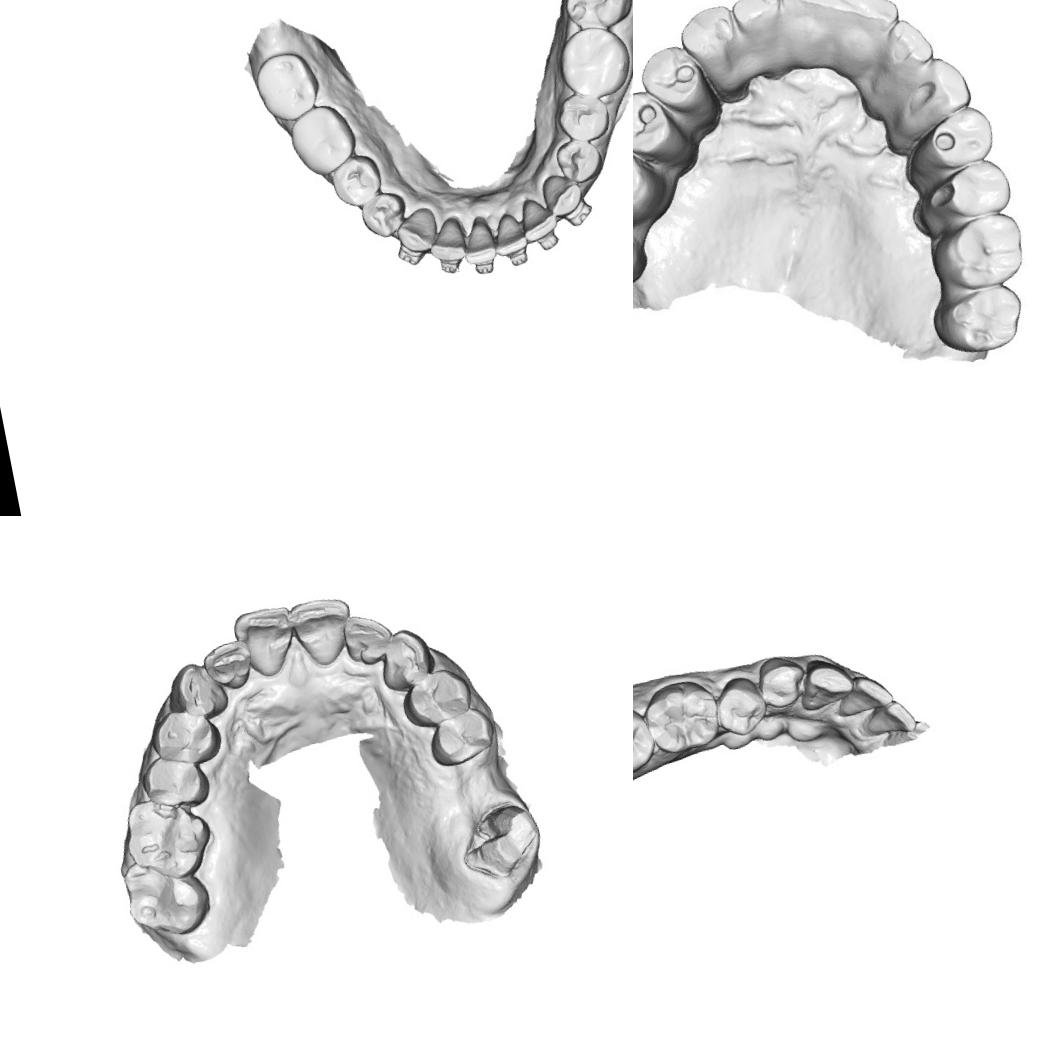canine: (880, 51, 975, 144), (674, 0, 752, 97), (161, 654, 230, 722), (373, 623, 436, 694), (791, 653, 858, 715), (390, 204, 442, 258), (537, 168, 587, 221)
crown: (455, 796, 546, 886)
incisor: (777, 0, 857, 81), (829, 0, 908, 78), (228, 600, 302, 682), (286, 592, 360, 670), (732, 0, 797, 81), (871, 12, 936, 84), (336, 607, 395, 670), (200, 634, 256, 695), (832, 667, 897, 718), (421, 212, 470, 266), (862, 696, 918, 741), (456, 212, 500, 268), (515, 192, 561, 244), (488, 206, 529, 258)
molar: (116, 789, 216, 889), (120, 850, 216, 946), (928, 208, 1034, 294), (928, 279, 1030, 364), (548, 19, 633, 105), (638, 674, 725, 758), (284, 99, 362, 182), (248, 45, 325, 126), (633, 130, 671, 240), (554, 0, 633, 35), (633, 698, 659, 785)
premolar: (902, 156, 1020, 240), (900, 100, 1001, 187), (636, 38, 722, 140), (396, 661, 476, 731), (633, 81, 687, 181), (145, 702, 222, 770), (423, 704, 500, 770), (136, 748, 210, 815), (710, 672, 771, 740), (550, 88, 616, 148), (324, 150, 386, 211), (753, 650, 810, 712), (550, 133, 606, 188), (355, 187, 410, 242)
